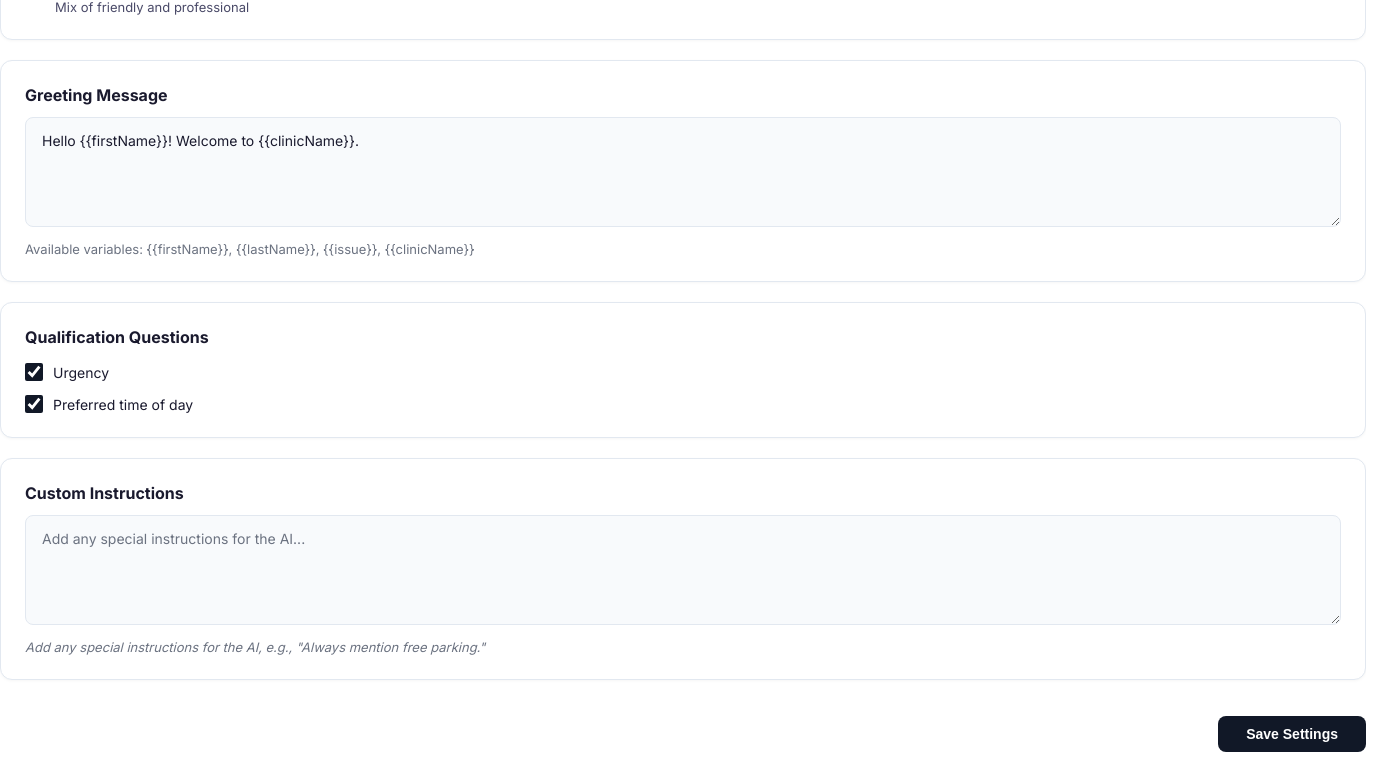
Test: AIConfigurationPage – interactions & save › should show generic error message for non-Error exceptions
The width and height of the screenshot is (1378, 768).
(page scrolled)
Click the button "Save Settings" at (1292, 734), box [1218, 716, 1366, 752]
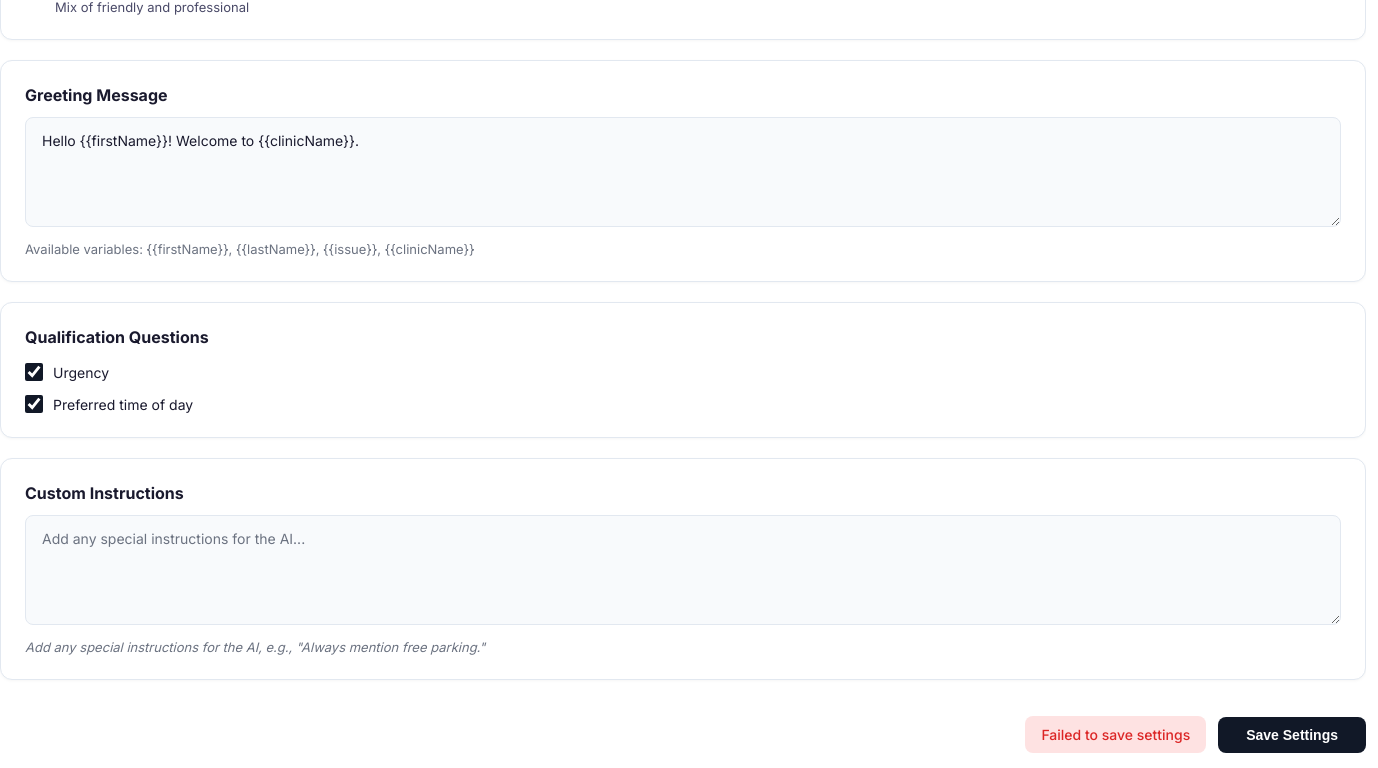
Expected: the text "Failed to save settings" is shown, [1025, 716, 1206, 753]
